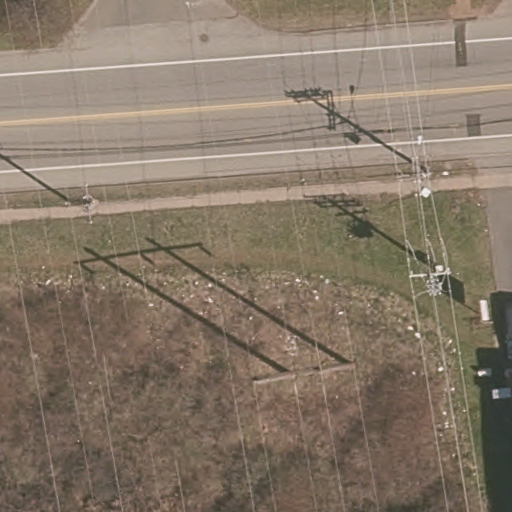DT: (234, 349, 365, 392), (397, 228, 456, 305), (386, 131, 441, 206), (60, 179, 105, 228)
